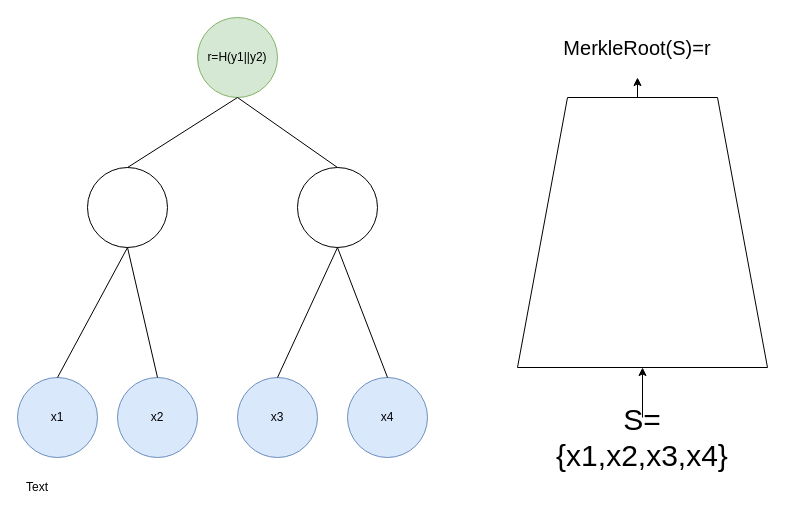
This 785x515 diagram has some shape labels left out. The centre of each missing label's shape, as x and y in pixels:
"H(x1||x2)=y1" belongs at [127,207].
"H(x3||x4)=y2" belongs at [337,207].
